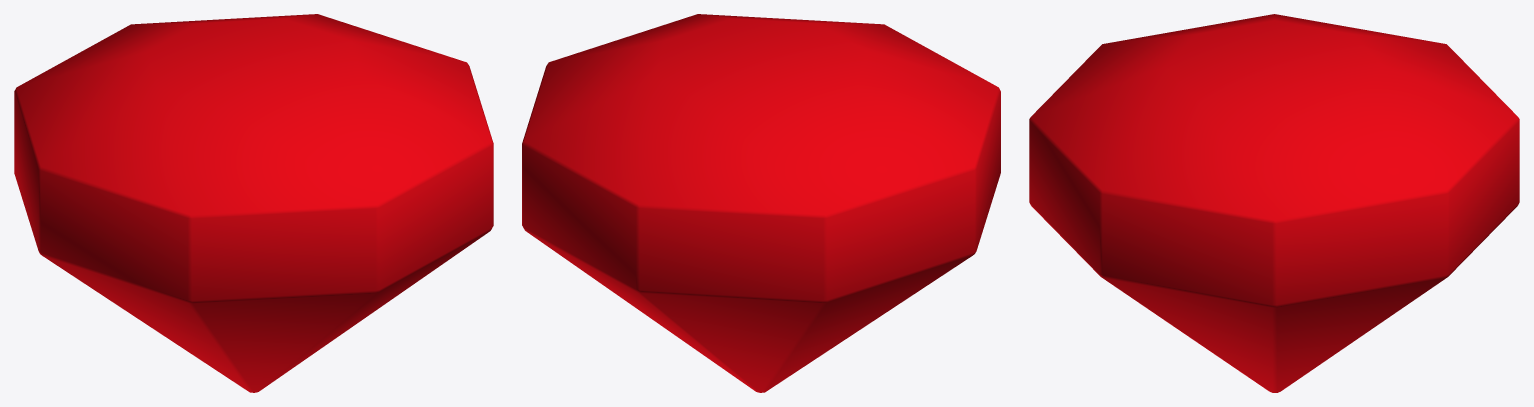
File: jewelry1.fbx
3 views of the same model, side by side, from view 1: azimuth 30°, elevation 25°; view 2: azimuth 150°, elevation 25°; view 3: azimuth 270°, elevation 25° (orthographic).
Visible parts, largest first — view 1: 円; view 2: 円; view 3: 円.
Boxes of the visible parts, left/top/right/bottom form: 円: left=14, top=14, right=493, bottom=392; 円: left=522, top=14, right=1000, bottom=392; 円: left=1029, top=14, right=1519, bottom=392.
Bounding box in the file's own units: 199 × 145 × 199.
